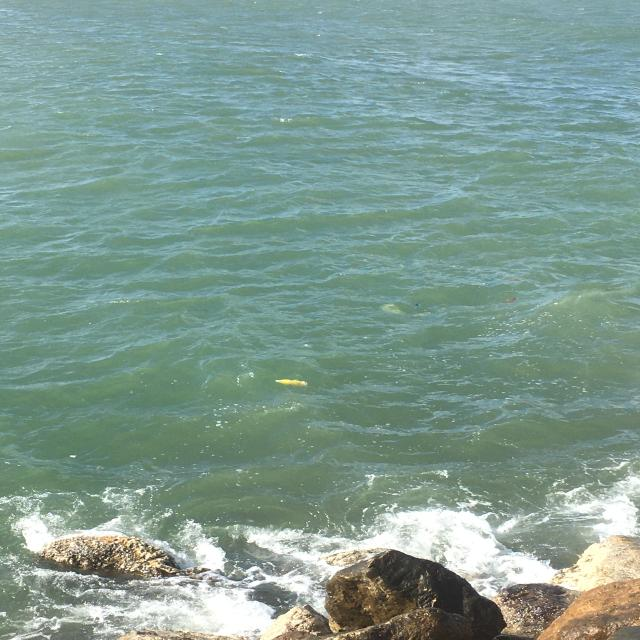Plastic bag: (379, 302, 409, 317)
Plastic bottle: (274, 376, 308, 388)
